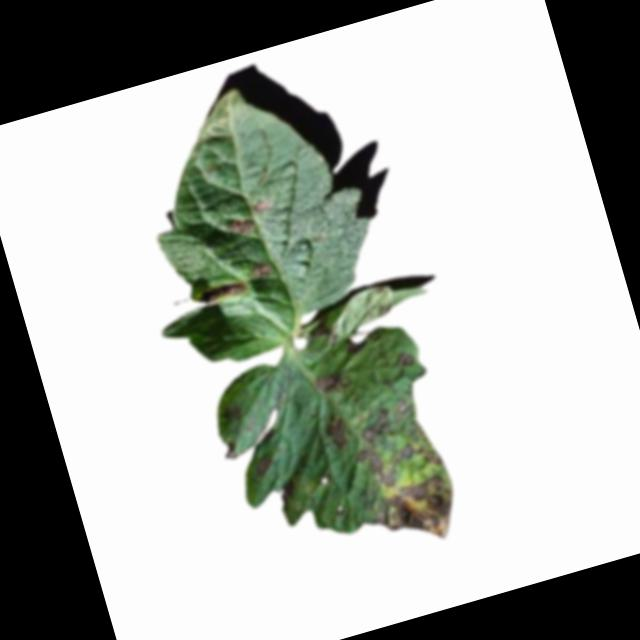Early_blight: (365, 471, 464, 554), (350, 440, 399, 495), (393, 436, 443, 477), (353, 403, 394, 444), (315, 407, 349, 451), (197, 278, 247, 306), (306, 312, 341, 350), (220, 212, 258, 245), (314, 367, 348, 400), (246, 450, 277, 481), (216, 403, 245, 430), (245, 256, 270, 284), (388, 348, 416, 370), (248, 194, 275, 216)
